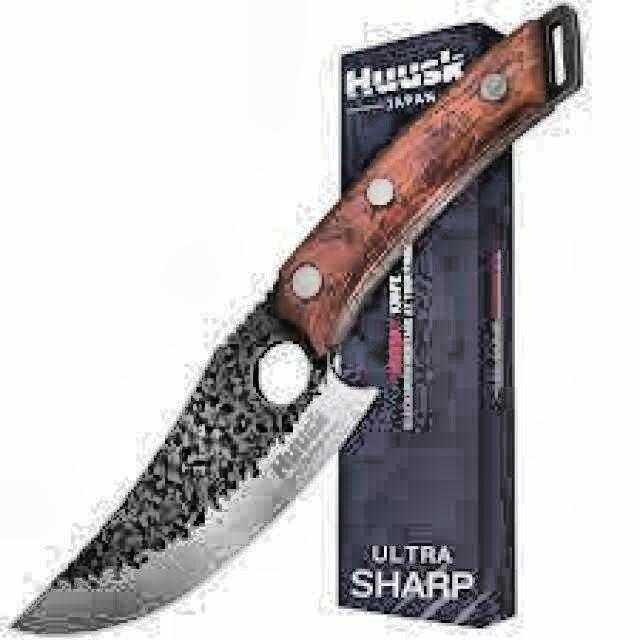knife: (4, 6, 588, 640)
